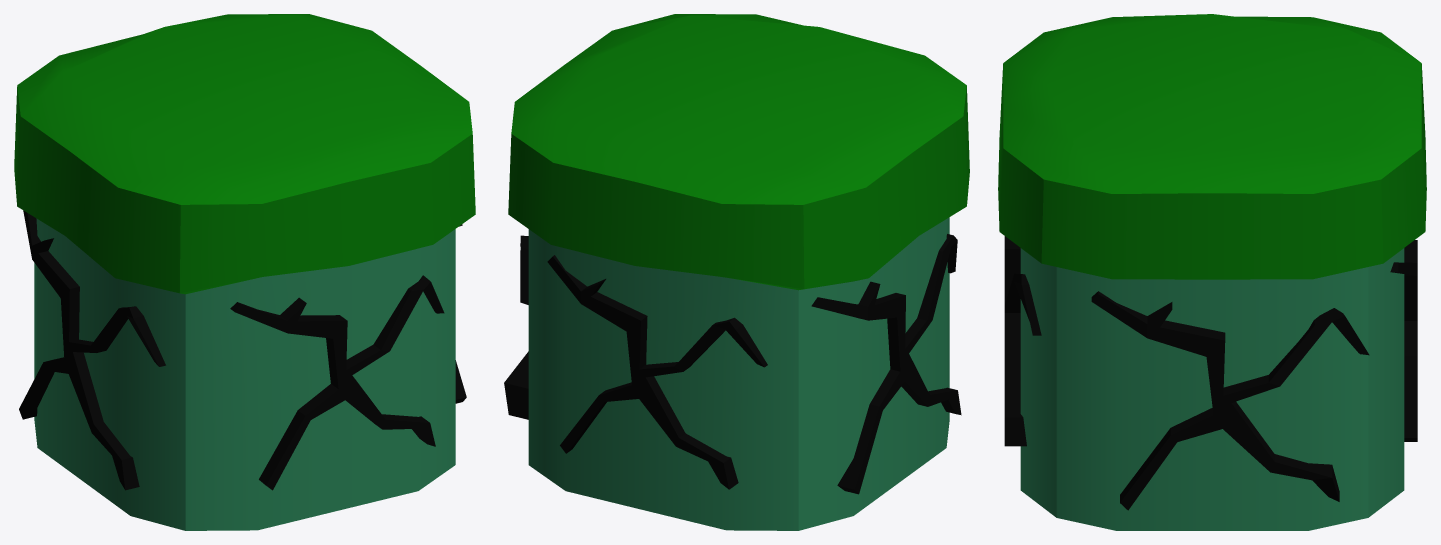
File: LevelWallPieceCracked.fbx
3 renders of one model, left to right at view 1: azimuth 30°, elevation 25°; view 2: azimuth 150°, elevation 25°; view 3: azimuth 270°, elevation 25°, orthographic. The views are drawn at different scales.
Visible parts, largest first — view 1: LevelWallPieceCracked; view 2: LevelWallPieceCracked; view 3: LevelWallPieceCracked.
Boxes of the visible parts, x1,y1,x2,y2 form: LevelWallPieceCracked: [14, 14, 475, 530]; LevelWallPieceCracked: [504, 14, 969, 530]; LevelWallPieceCracked: [998, 14, 1426, 530].
Bounding box in the file's own units: 1.12 × 1.06 × 1.12.
